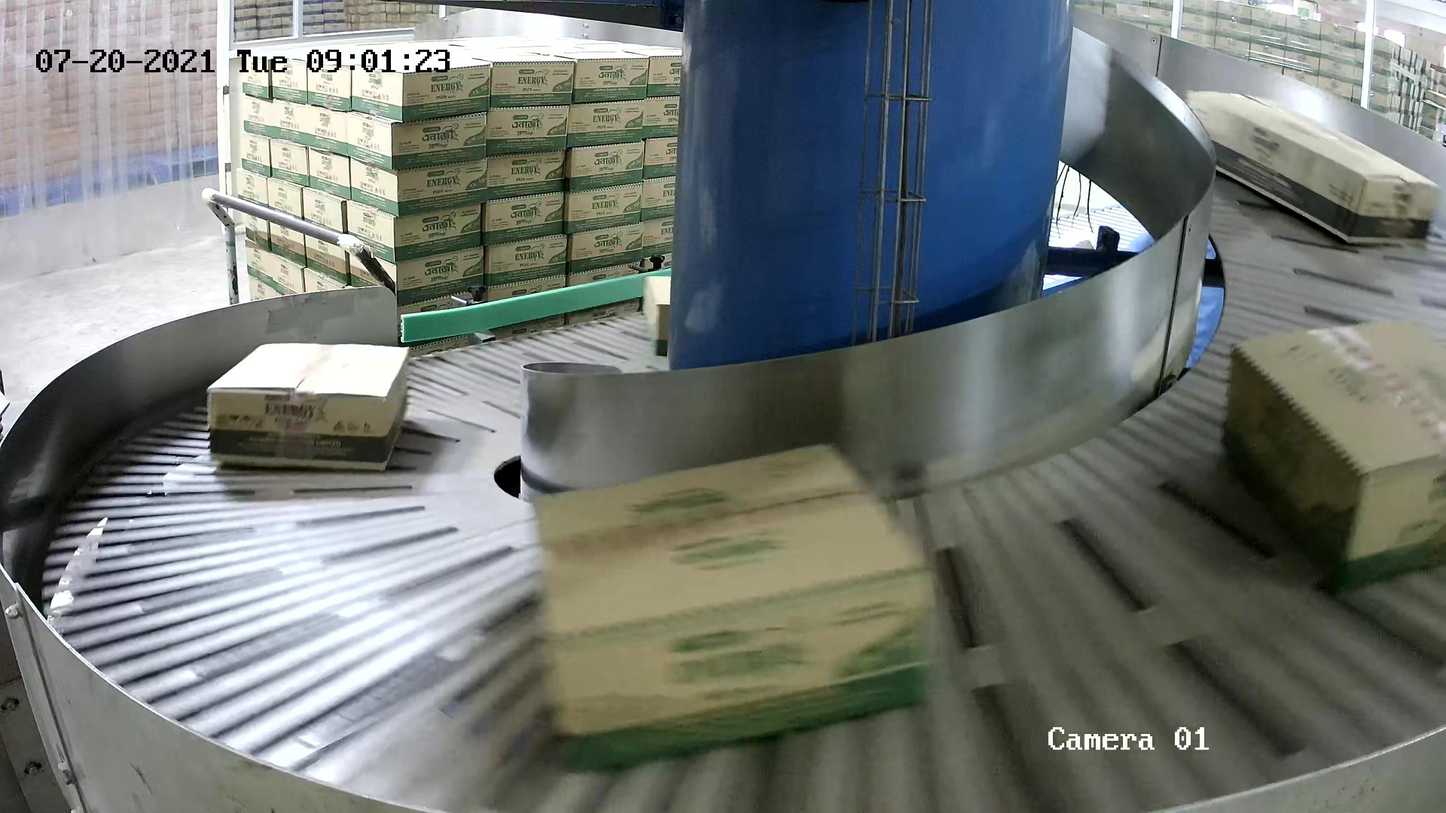Box: (528, 438, 944, 776), (1221, 318, 1446, 604), (1181, 86, 1441, 248), (206, 341, 410, 474), (642, 274, 673, 359)
